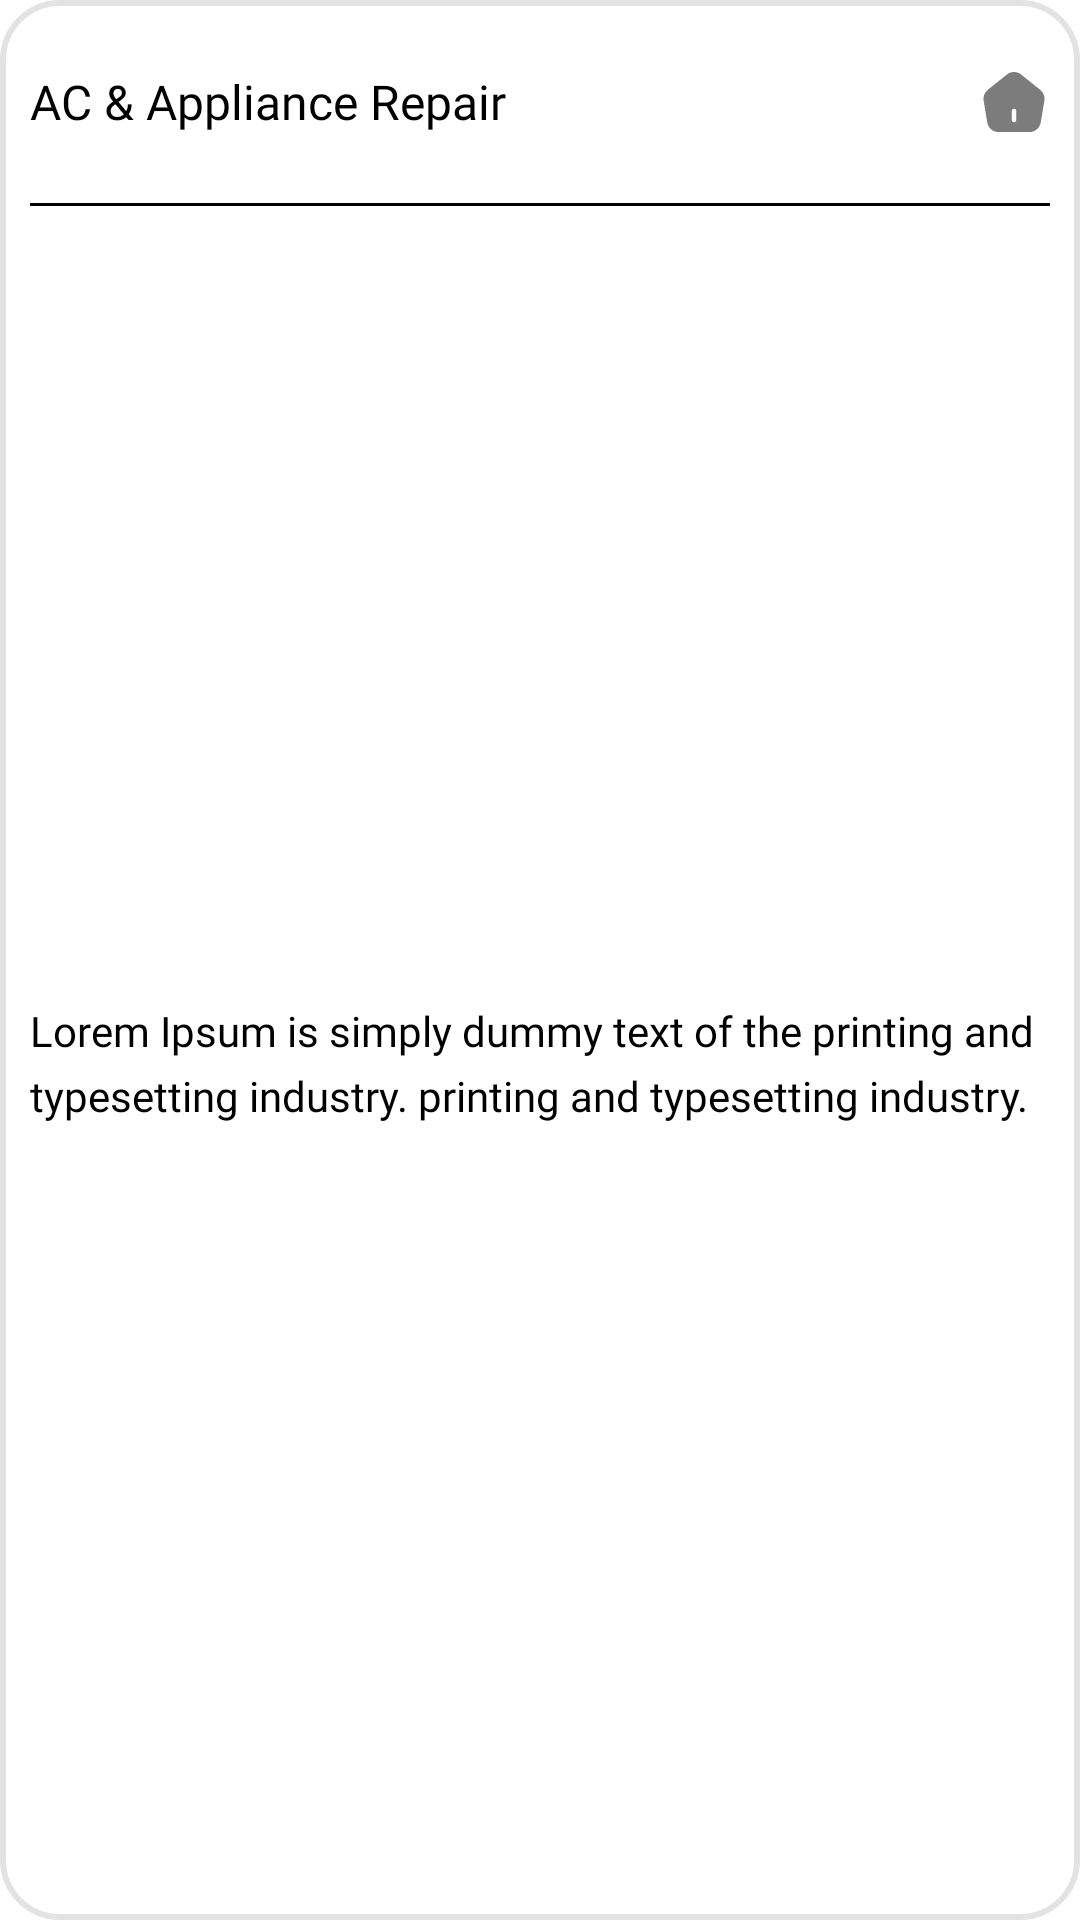

Where to tap for icons on this 1080x1920 app screen, as (x=x, y=y):
home: (x=1014, y=102)
